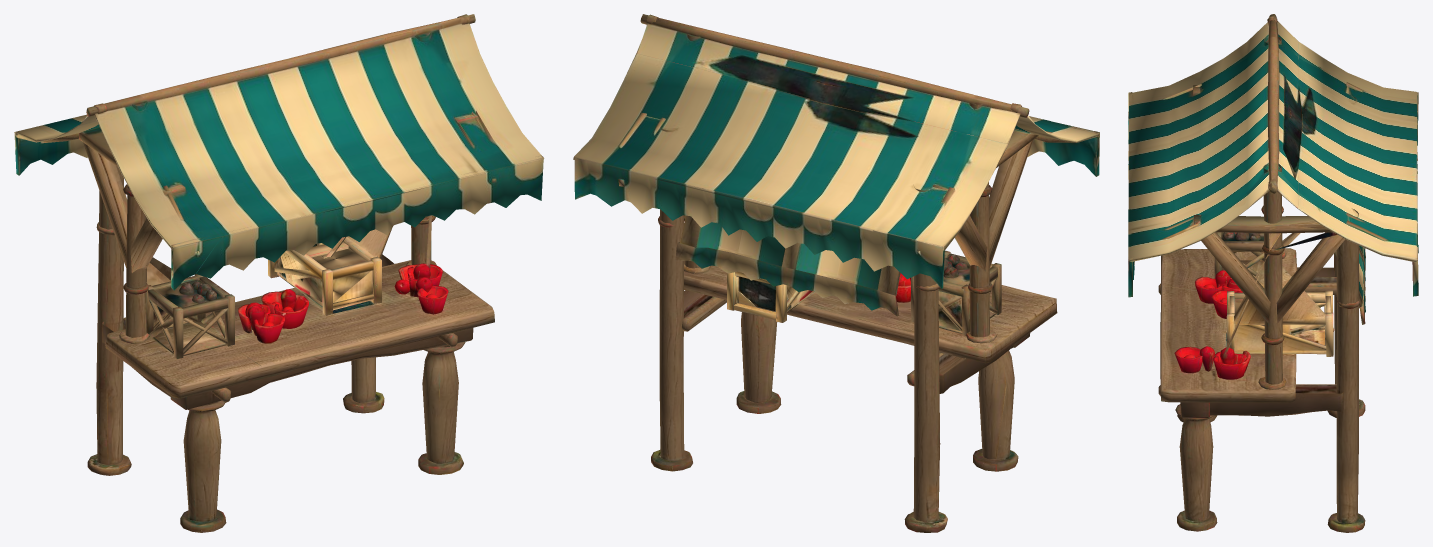
Rendered from market-stall.glb.
The picture shows the model from 3 angles, left to right: view 1: azimuth 30°, elevation 25°; view 2: azimuth 150°, elevation 25°; view 3: azimuth 270°, elevation 25°; orthographic projection. The views are drawn at different scales.
Size of the model in its own units: 2.6 by 2.6 by 1.85.
Materials: 1 (1 with a texture image).
